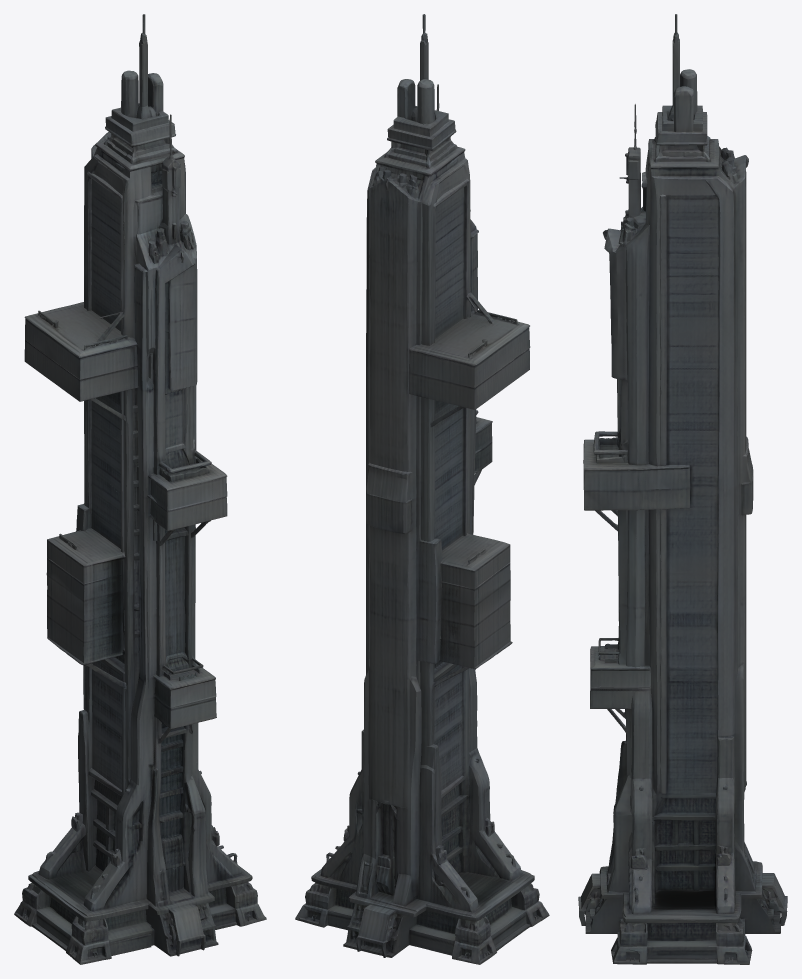
Rendered from source.glb.
The picture shows the model from 3 angles, left to right: view 1: azimuth 30°, elevation 25°; view 2: azimuth 150°, elevation 25°; view 3: azimuth 270°, elevation 25°; orthographic projection.
Parts seen in each view (by area): view 1: model; view 2: model; view 3: model.
Part boxes in pixels (bbox=[...]): model: bbox=[14, 14, 266, 964]; model: bbox=[295, 14, 549, 964]; model: bbox=[578, 14, 787, 964].
Bounding box in the file's own units: 0.4117 × 1.9 × 0.3973.
Materials: 1 (1 with a texture image).
